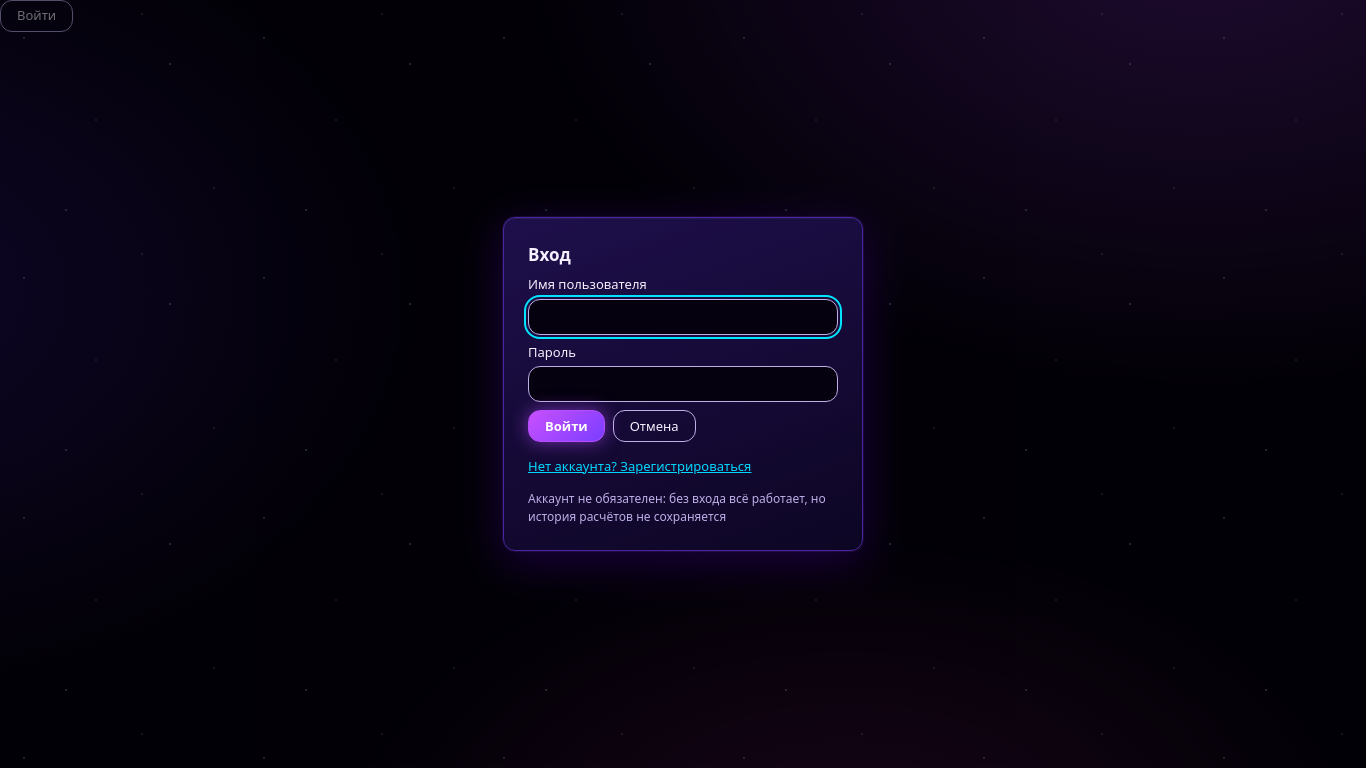
Scenario: sign in › registers, shows server field errors and then signs in
Earlier steps of the test are not shown.
Click the button "Нет аккаунта? Зарегистрироваться" at (640, 466), box 528,450 -> 751,482
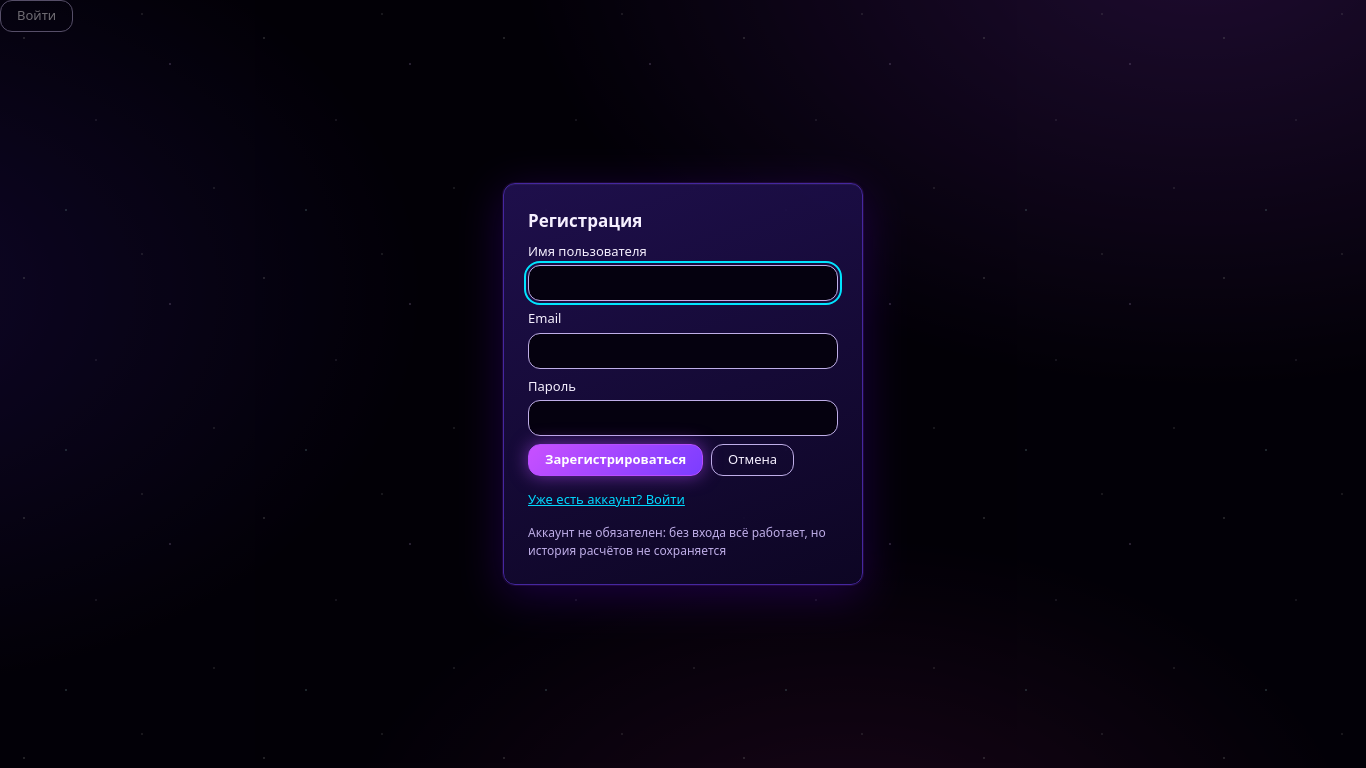
Type "taken" into the field labelled "Имя пользователя" at (683, 283), box 528,265 -> 838,301
Type "x@example.test" into the field labelled "Email" at (683, 350), box 528,332 -> 838,368
Type "short" into the password field labelled "Пароль" at (683, 418), box 528,400 -> 838,436
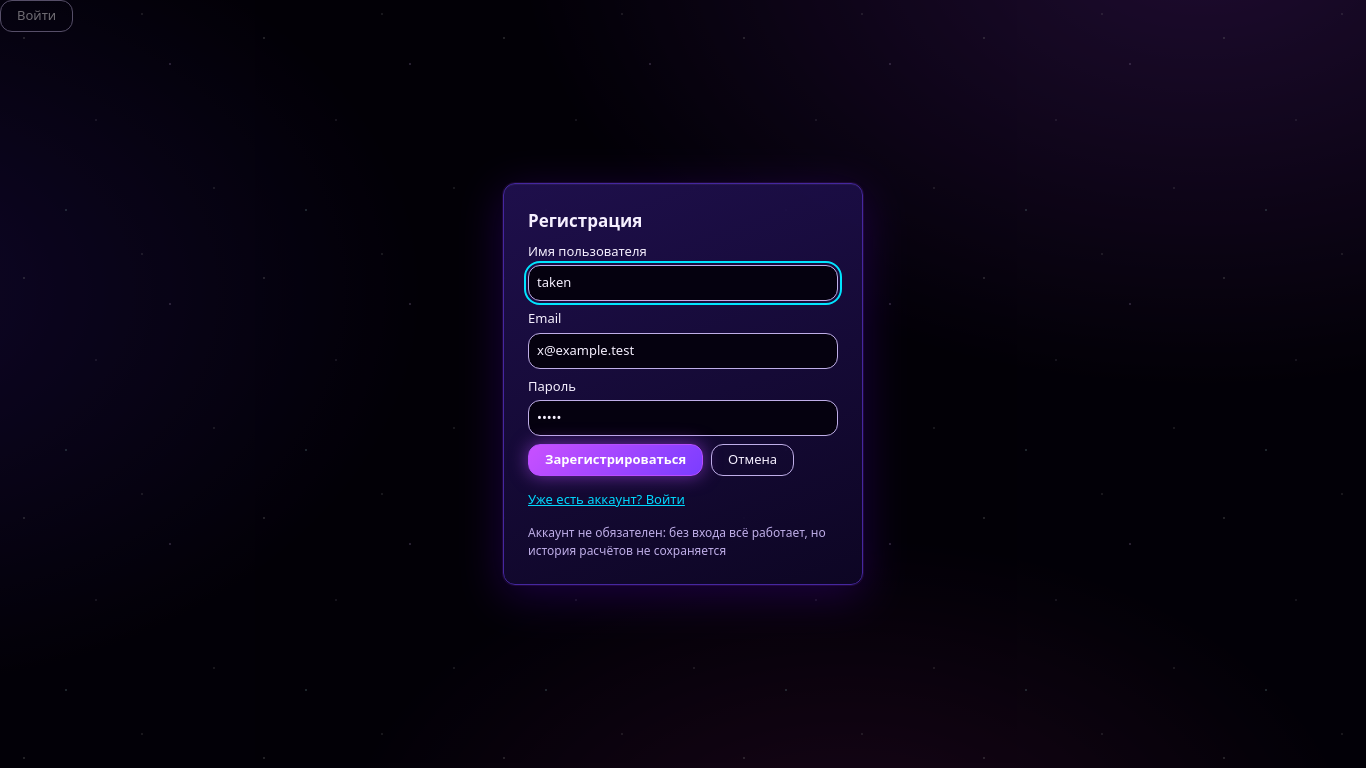
Click the button "Зарегистрироваться" at (616, 460), box 528,444 -> 703,476
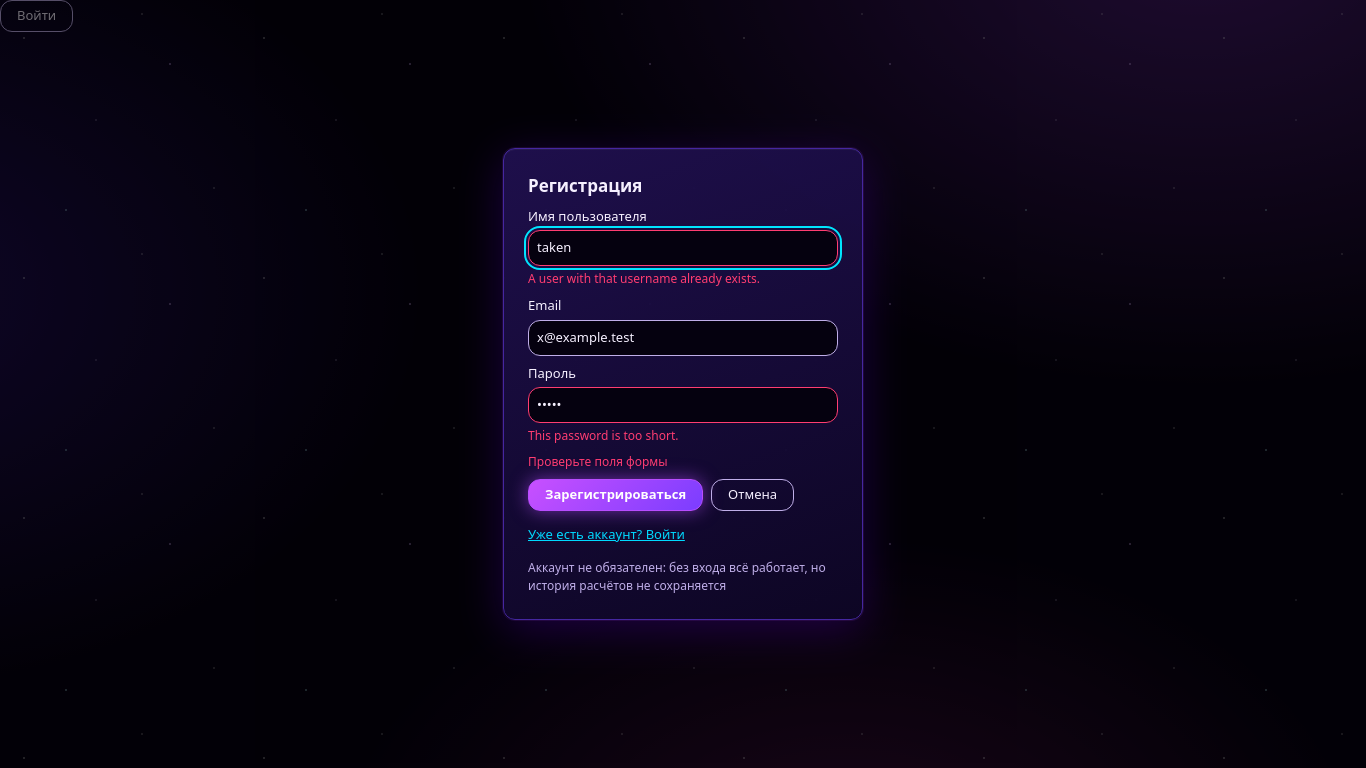
expect the text "A user with that username already exists." is shown: met, box 528,270 -> 760,287
expect the text "This password is too short." is shown: met, box 528,427 -> 678,444
Replace the text in the field labelled "Имя пользователя" with "grace" at (683, 248), box 528,230 -> 838,266
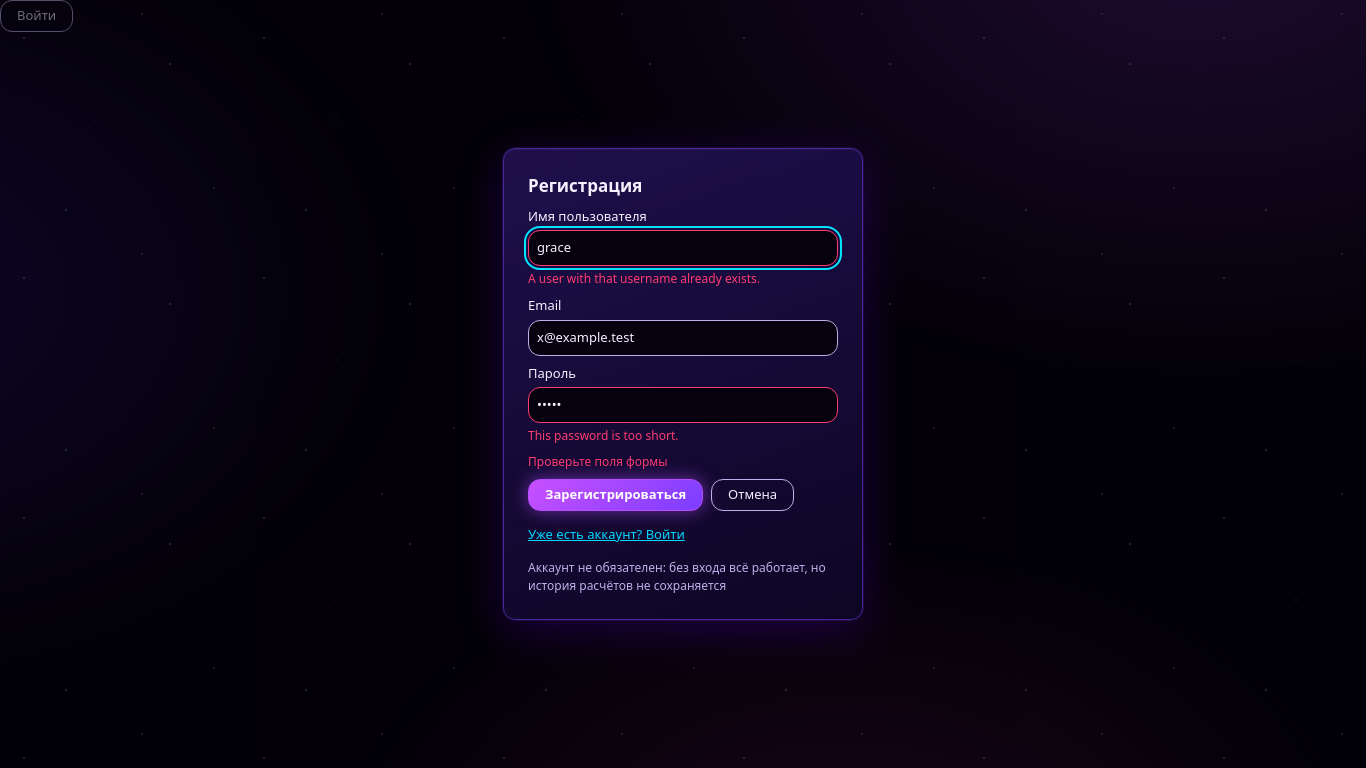
Type "long-enough-pass" into the password field labelled "Пароль" at (683, 405), box 528,387 -> 838,423
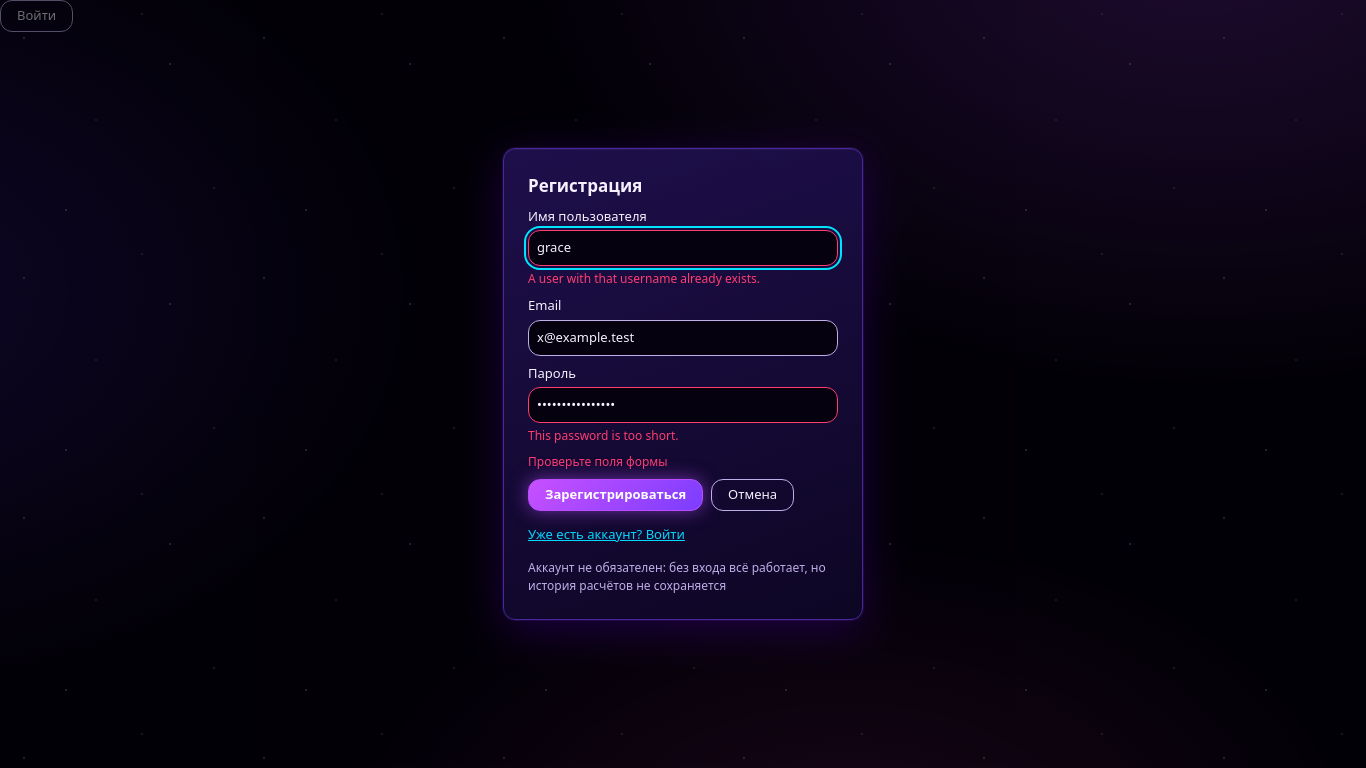
Click the button "Зарегистрироваться" at (616, 495), box 528,479 -> 703,511
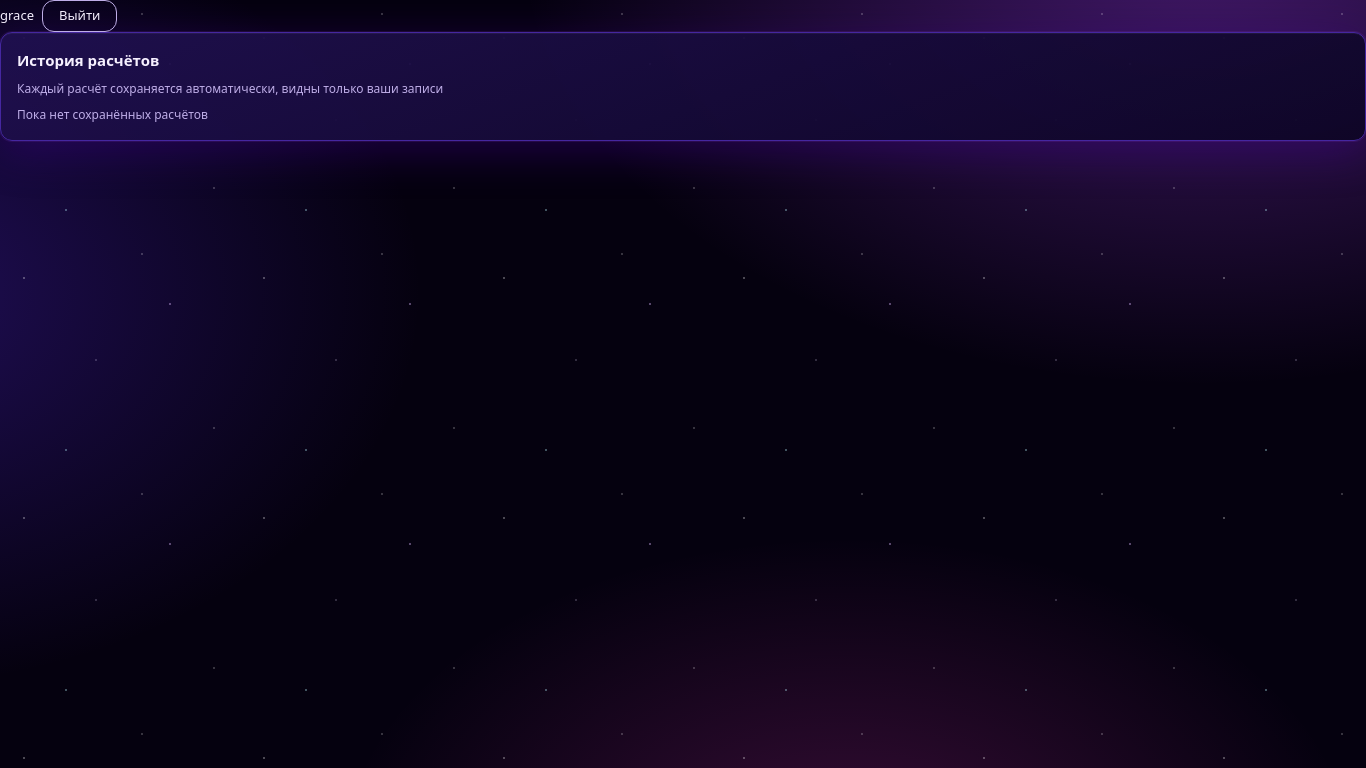
expect the text "grace" is shown: met, box 0,6 -> 34,26
